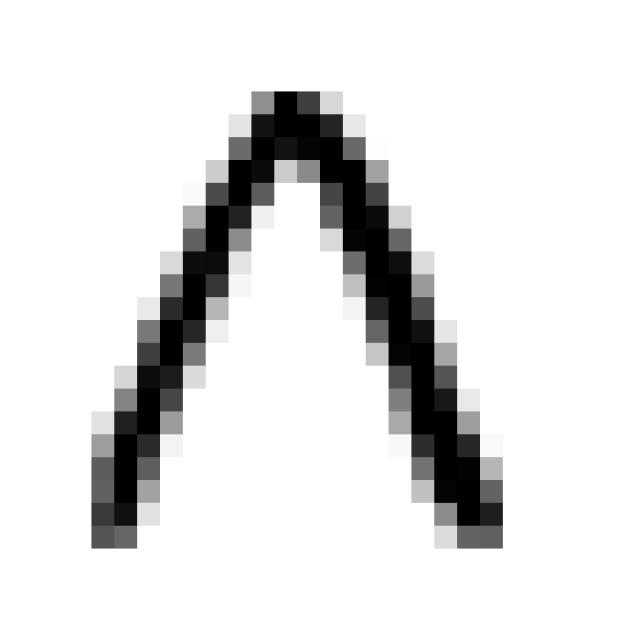8 -eight-: (64, 68, 523, 566)
